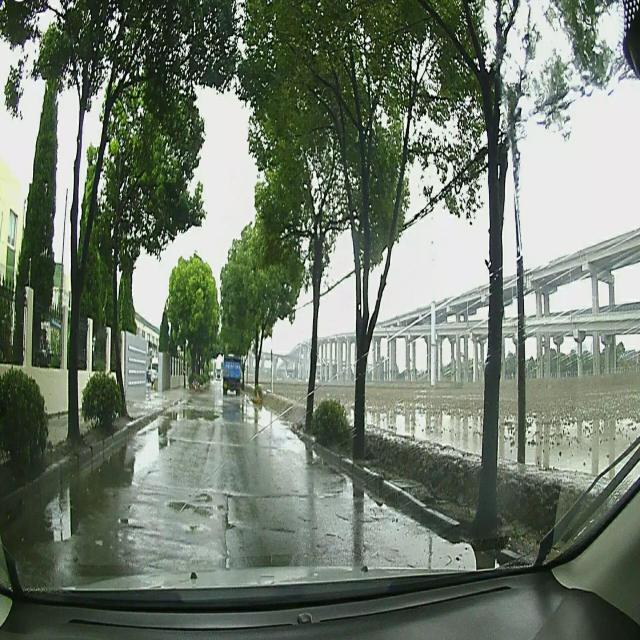car: (150, 352, 158, 384)
